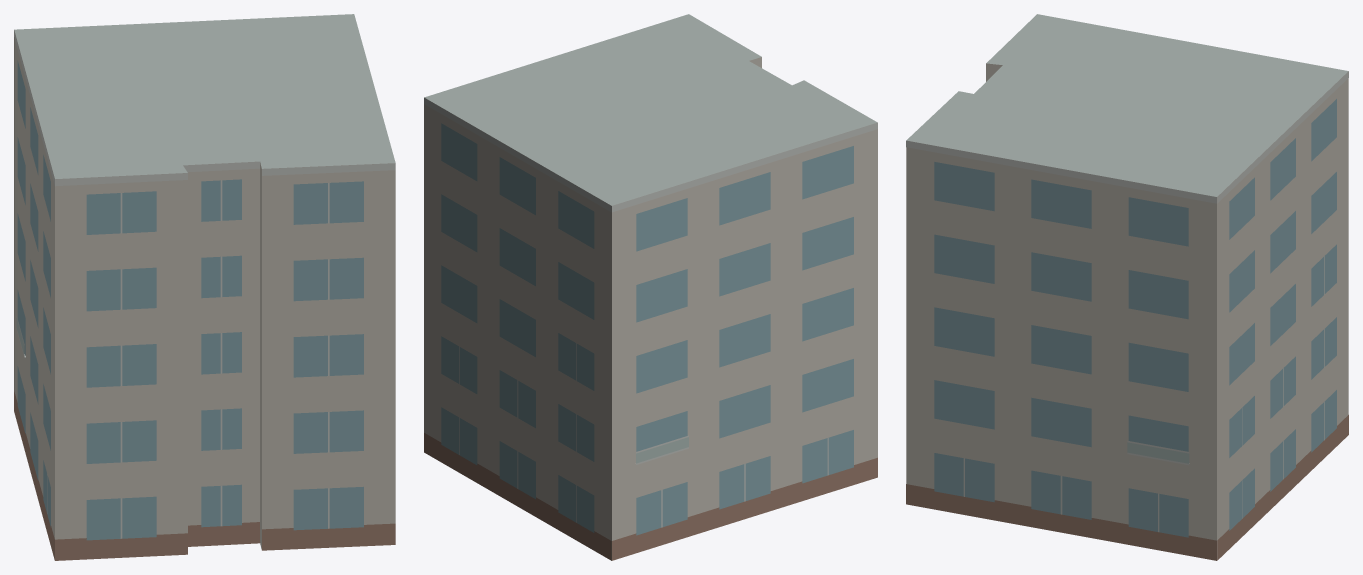
Rendered from survey-upis-32531294.glb.
3 views of the same model, side by side, from view 1: azimuth 30°, elevation 25°; view 2: azimuth 150°, elevation 25°; view 3: azimuth 270°, elevation 25° (orthographic). The views are drawn at different scales.
Visible parts, largest first — view 1: survey-upis-32531294.tmp; view 2: survey-upis-32531294.tmp; view 3: survey-upis-32531294.tmp.
Boxes of the visible parts, x1,y1,x2,y2 form: survey-upis-32531294.tmp: [14, 14, 395, 560]; survey-upis-32531294.tmp: [424, 14, 877, 560]; survey-upis-32531294.tmp: [906, 14, 1348, 560].
Bounding box in the file's own units: 14.25 × 13.2 × 14.57.
